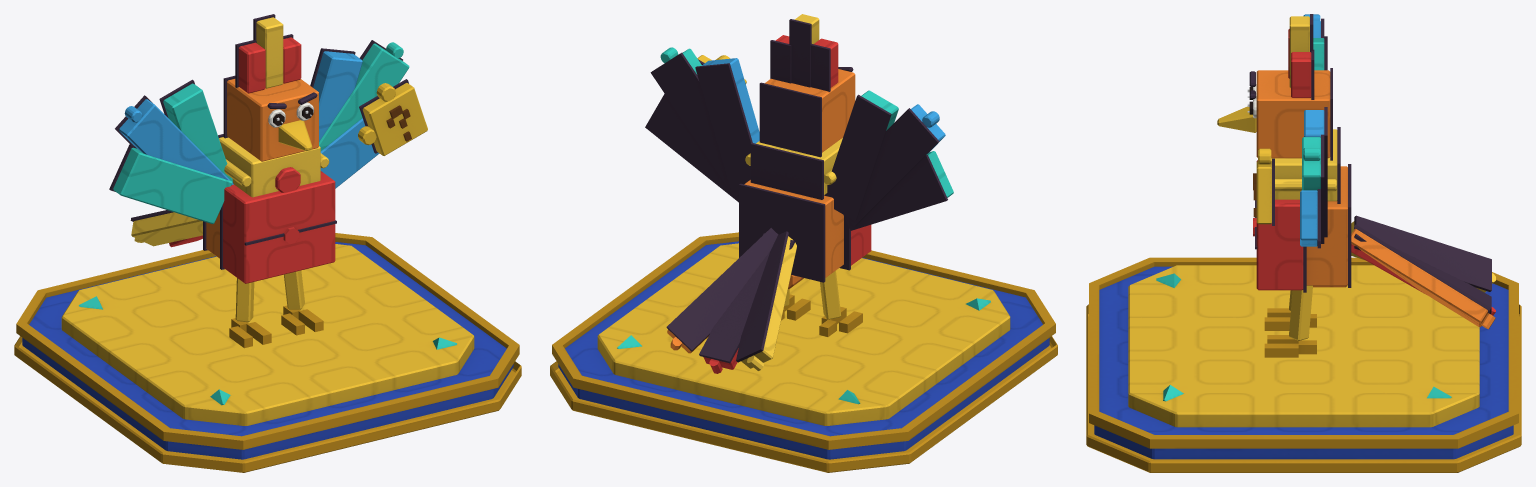
Rendered from PuzzlePhoenix.fbx.
3 renders of one model, left to right at view 1: azimuth 30°, elevation 25°; view 2: azimuth 150°, elevation 25°; view 3: azimuth 270°, elevation 25°, orthographic. The views are drawn at different scales.
Parts seen in each view (by area): view 1: Art_PuzzlePhoenix_Stand, Art_PuzzlePhoenix_Body, Art_PuzzlePhoenix_WingL, Art_PuzzlePhoenix_Head, Art_PuzzlePhoenix_WingR, Art_PuzzlePhoenix_Piece, Art_PuzzlePhoenix_Tail, Art_PuzzlePhoenix_LegL, Art_PuzzlePhoenix_LegR; view 2: Art_PuzzlePhoenix_Stand, Art_PuzzlePhoenix_WingL, Art_PuzzlePhoenix_Body, Art_PuzzlePhoenix_WingR, Art_PuzzlePhoenix_Tail, Art_PuzzlePhoenix_Head, Art_PuzzlePhoenix_LegL, Art_PuzzlePhoenix_LegR; view 3: Art_PuzzlePhoenix_Stand, Art_PuzzlePhoenix_Body, Art_PuzzlePhoenix_Tail, Art_PuzzlePhoenix_Head, Art_PuzzlePhoenix_WingR, Art_PuzzlePhoenix_LegR, Art_PuzzlePhoenix_Piece, Art_PuzzlePhoenix_WingL, Art_PuzzlePhoenix_LegL.
Part boxes in pixels (x1,y1,x2,y2): Art_PuzzlePhoenix_Stand: [14, 233, 521, 472]; Art_PuzzlePhoenix_Body: [203, 134, 336, 283]; Art_PuzzlePhoenix_WingL: [109, 79, 233, 224]; Art_PuzzlePhoenix_Head: [223, 14, 318, 161]; Art_PuzzlePhoenix_WingR: [310, 40, 409, 188]; Art_PuzzlePhoenix_Piece: [358, 79, 427, 155]; Art_PuzzlePhoenix_Tail: [130, 210, 202, 247]; Art_PuzzlePhoenix_LegL: [229, 278, 271, 348]; Art_PuzzlePhoenix_LegR: [281, 270, 323, 335]; Art_PuzzlePhoenix_Stand: [550, 232, 1057, 472]; Art_PuzzlePhoenix_WingL: [824, 90, 953, 230]; Art_PuzzlePhoenix_Body: [739, 138, 871, 289]; Art_PuzzlePhoenix_WingR: [645, 47, 759, 202]; Art_PuzzlePhoenix_Tail: [666, 228, 796, 373]; Art_PuzzlePhoenix_Head: [759, 14, 855, 157]; Art_PuzzlePhoenix_LegL: [819, 270, 862, 336]; Art_PuzzlePhoenix_LegR: [781, 289, 810, 320]; Art_PuzzlePhoenix_Stand: [1086, 257, 1521, 472]; Art_PuzzlePhoenix_Body: [1253, 127, 1351, 292]; Art_PuzzlePhoenix_Tail: [1351, 215, 1495, 329]; Art_PuzzlePhoenix_Head: [1217, 14, 1332, 160]; Art_PuzzlePhoenix_WingR: [1300, 107, 1327, 248]; Art_PuzzlePhoenix_LegR: [1264, 285, 1316, 357]; Art_PuzzlePhoenix_Piece: [1253, 148, 1274, 225]; Art_PuzzlePhoenix_WingL: [1303, 14, 1327, 70]; Art_PuzzlePhoenix_LegL: [1264, 290, 1316, 330].
Bounding box in the file's own units: 3.32 × 3.05 × 3.32.
